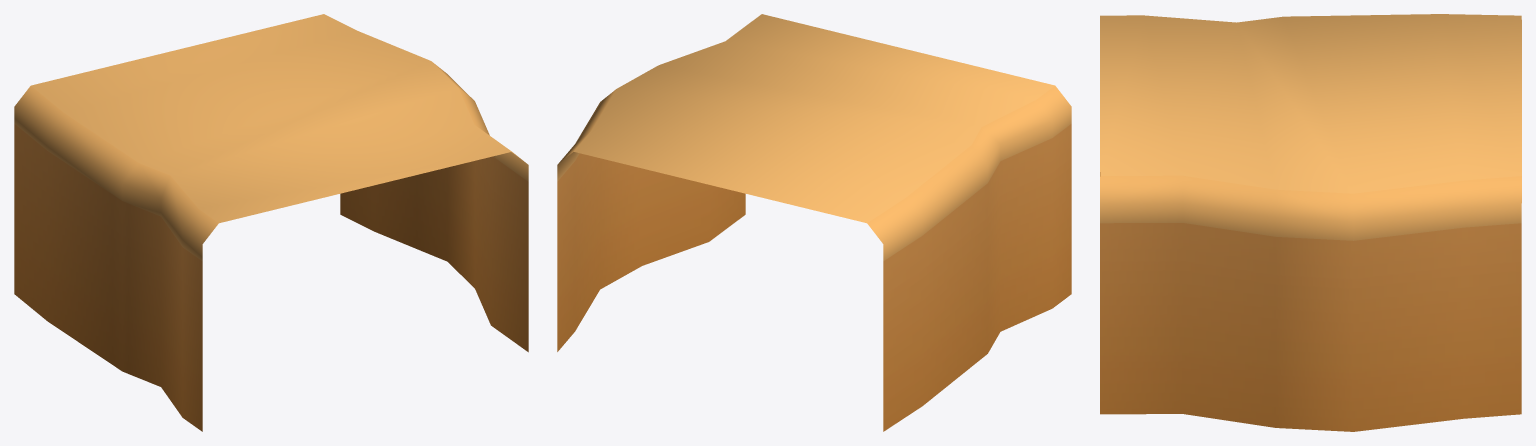
File: Straight S Path 02.FBX
3 renders of one model, left to right at view 1: azimuth 30°, elevation 25°; view 2: azimuth 150°, elevation 25°; view 3: azimuth 270°, elevation 25°, orthographic. The views are drawn at different scales.
Parts seen in each view (by area): view 1: Straight S Path 02; view 2: Straight S Path 02; view 3: Straight S Path 02.
Part boxes in pixels (x1,y1,x2,y2): Straight S Path 02: [14, 14, 528, 431]; Straight S Path 02: [557, 14, 1071, 431]; Straight S Path 02: [1100, 14, 1521, 431].
Size of the model in its own units: 554 by 300 by 500.
Materials: 1 (1 with a texture image).
